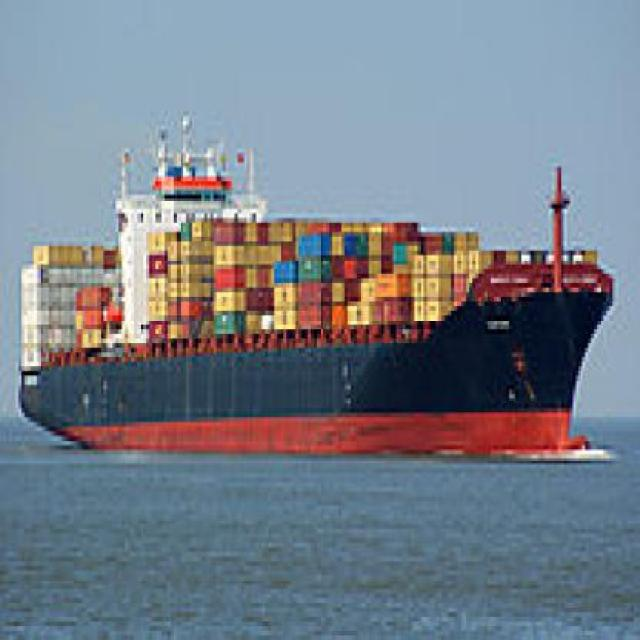container: (20, 104, 626, 470)
